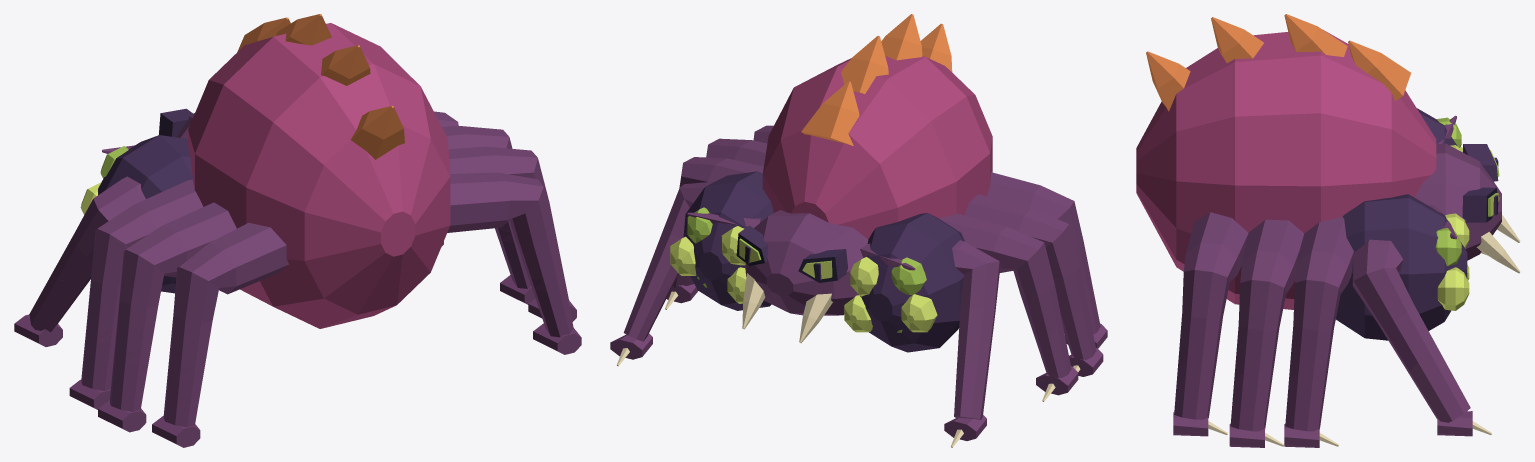
File: CaveBroodmother_D3-09.fbx
3 renders of one model, left to right at view 1: azimuth 30°, elevation 25°; view 2: azimuth 150°, elevation 25°; view 3: azimuth 270°, elevation 25°, orthographic. The views are drawn at different scales.
Parts seen in each view (by area): view 1: Body, Leg_L4, Leg_L3, Leg_R4, Leg_L2, Brood_L, Leg_L1, Shin_L3, Shin_L4, Leg_R3, Shin_R4, Shin_L1 (+4 smaller); view 2: Body, Brood_L, Head, Brood_R, Leg_L2, Leg_L3, Leg_L1, Leg_L4, Shin_L1, Leg_R1, Shin_R1, Shin_L2 (+6 smaller); view 3: Body, Brood_R, Leg_R3, Leg_R2, Leg_R4, Head, Leg_R1, Shin_R1, Shin_R4, Shin_R3, Shin_R2, Brood_L (+1 smaller).
Boxes of the visible parts, <box> form: Body: <box>188,14,450,328</box>; Leg_L4: <box>168,222,288,379</box>; Leg_L3: <box>114,202,236,363</box>; Leg_R4: <box>447,172,562,291</box>; Leg_L2: <box>86,179,203,342</box>; Brood_L: <box>80,135,192,293</box>; Leg_L1: <box>53,176,145,292</box>; Shin_L3: <box>98,346,150,432</box>; Shin_L4: <box>152,362,204,447</box>; Leg_R3: <box>448,146,557,246</box>; Shin_R4: <box>530,274,581,354</box>; Shin_L1: <box>14,272,90,346</box>; Body: <box>762,14,992,239</box>; Brood_L: <box>844,213,964,352</box>; Head: <box>736,210,868,320</box>; Brood_R: <box>670,171,773,310</box>; Leg_L2: <box>939,213,1063,339</box>; Leg_L3: <box>964,194,1088,320</box>; Leg_L1: <box>952,240,1000,373</box>; Leg_L4: <box>986,172,1090,293</box>; Shin_L1: <box>944,351,990,447</box>; Leg_R1: <box>639,181,714,296</box>; Shin_R1: <box>610,276,677,366</box>; Shin_L2: <box>1030,323,1078,401</box>; Body: <box>1136,14,1436,309</box>; Brood_R: <box>1336,194,1469,340</box>; Leg_R3: <box>1234,219,1303,385</box>; Leg_R2: <box>1289,216,1353,385</box>; Leg_R4: <box>1178,212,1248,373</box>; Head: <box>1415,143,1507,257</box>; Leg_R1: <box>1352,239,1448,373</box>; Shin_R1: <box>1397,355,1491,436</box>; Shin_R4: <box>1173,356,1227,436</box>; Shin_R3: <box>1229,366,1284,447</box>; Shin_R2: <box>1284,369,1338,447</box>; Brood_L: <box>1417,108,1462,152</box>.
Size of the model in its own units: 1.52 by 1.08 by 1.13.
1 material, 1 textured.
